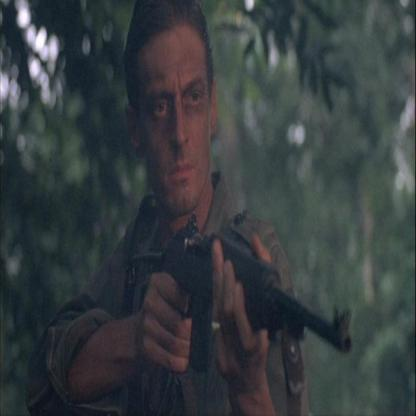gun: (119, 200, 366, 355)
